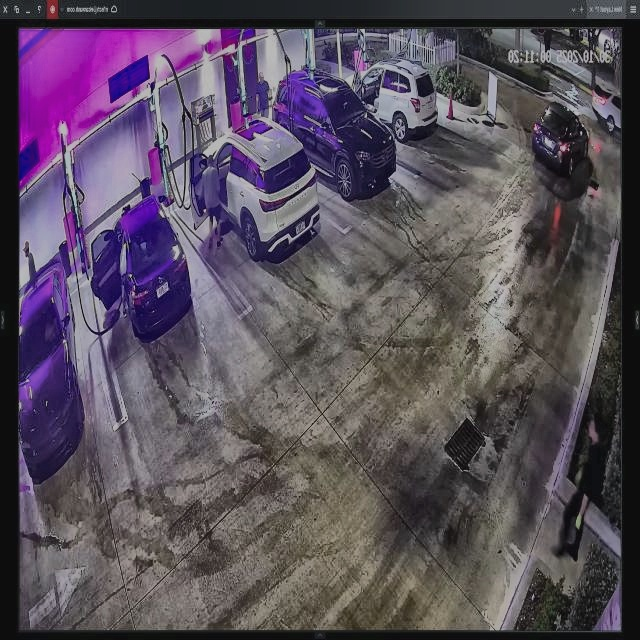Car: (193, 118, 319, 262), (272, 73, 395, 196), (92, 196, 192, 331)
